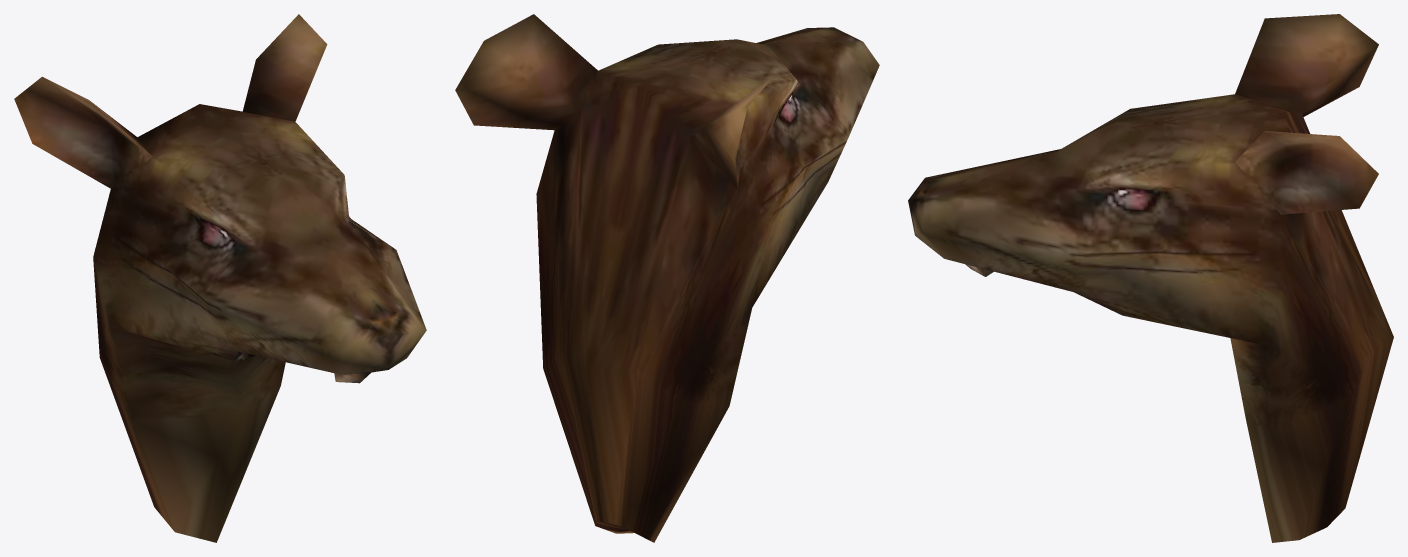
Rendered from HELMSZCZUR.glb.
3 views of the same model, side by side, from view 1: azimuth 30°, elevation 25°; view 2: azimuth 150°, elevation 25°; view 3: azimuth 270°, elevation 25° (orthographic). The views are drawn at different scales.
Visible parts, largest first — view 1: Mesh; view 2: Mesh; view 3: Mesh.
Part boxes in pixels (<box>): Mesh: <box>14,14,426,542</box>; Mesh: <box>455,14,879,542</box>; Mesh: <box>908,14,1393,542</box>.
Size of the model in its own units: 0.3039 by 0.5068 by 0.4822.
Materials: 1 (1 with a texture image).
